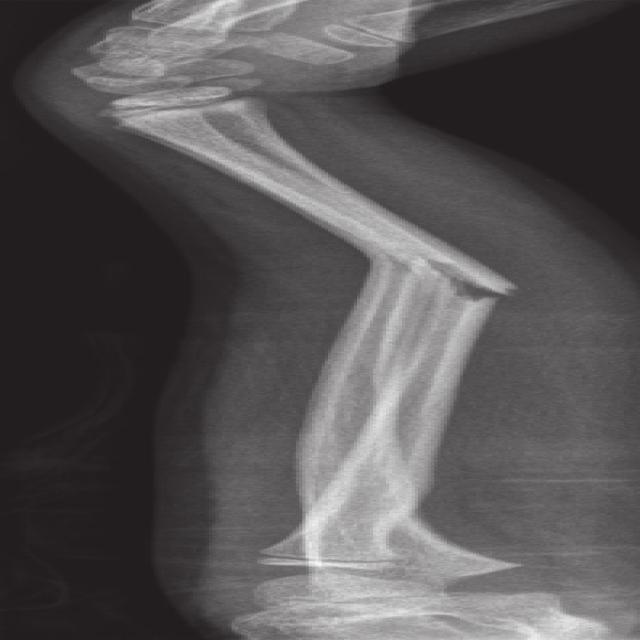Broken: (100, 106, 531, 287), (289, 263, 491, 534)
